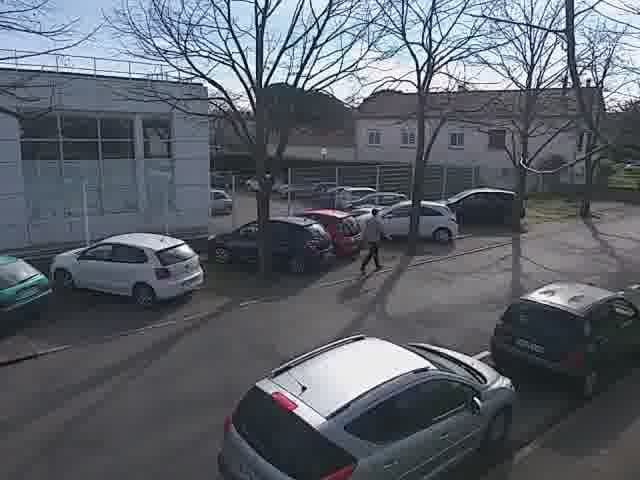persona: (355, 196, 390, 276)
